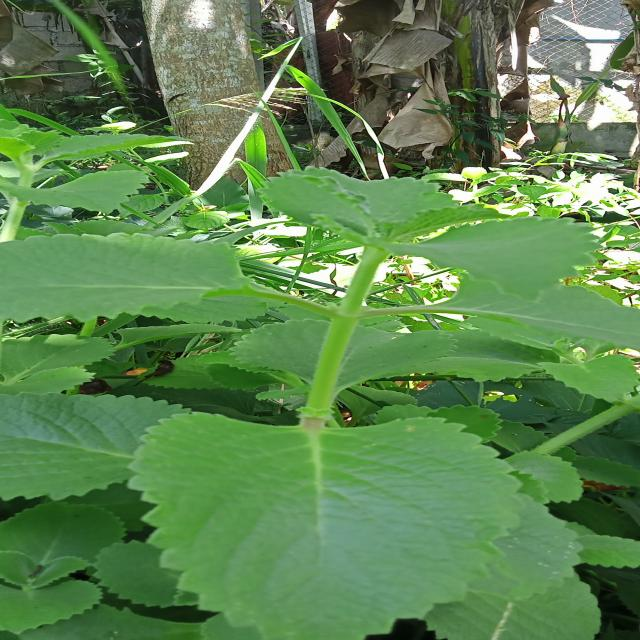Oregano: (107, 407, 578, 640), (258, 151, 616, 294)
